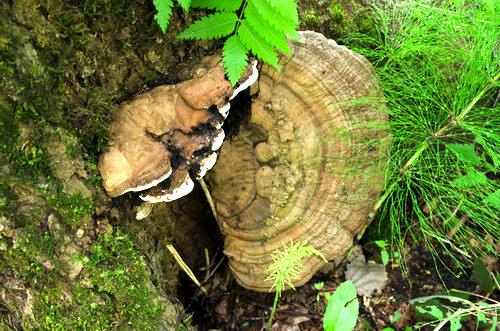Ganoderma - Fruit Body: (118, 29, 393, 298)
